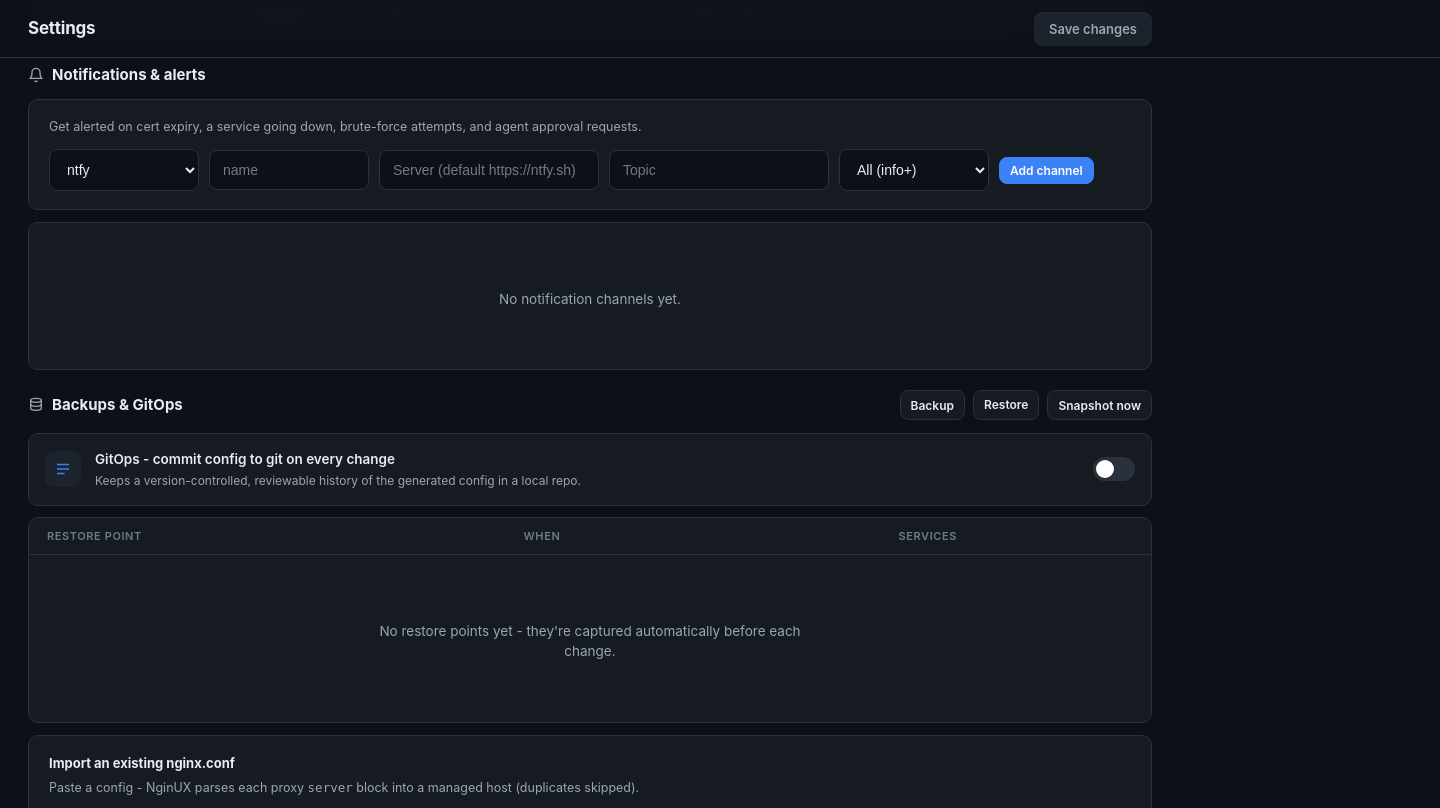
Test: SettingsPage - encrypted backup passphrase modal (fix 4) › opens a modal with passphrase + confirm fields instead of a native prompt
(page scrolled)
What coordinates should you click on to do the following:
click the button "Backup"
I would click on:
 (932, 405)
Its box is [900, 390, 965, 420].
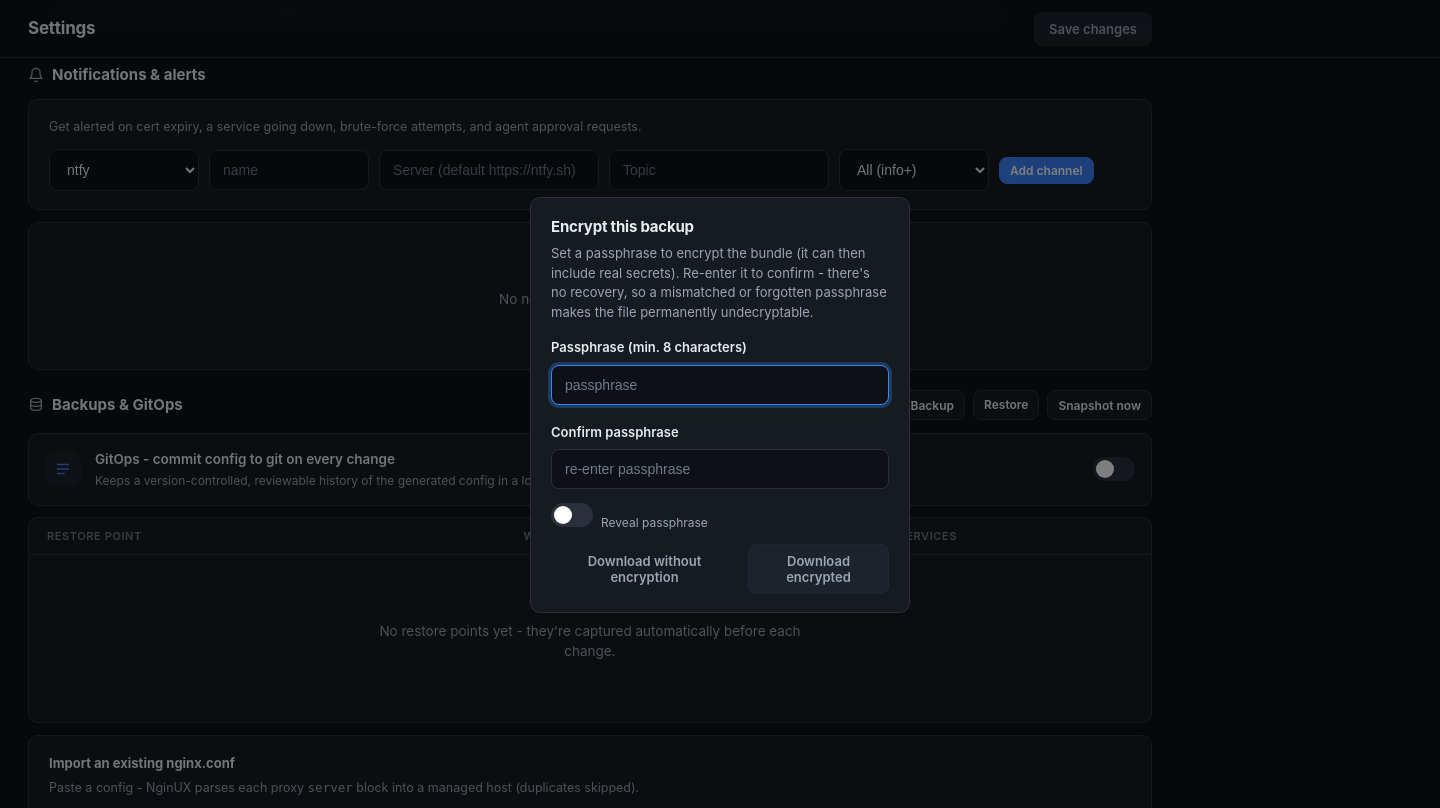
Expected: the password field labelled "Passphrase (min. 8 characters)" is shown, [551, 365, 889, 405]
Expected: the password field labelled "Confirm passphrase" is shown, [551, 449, 889, 489]
